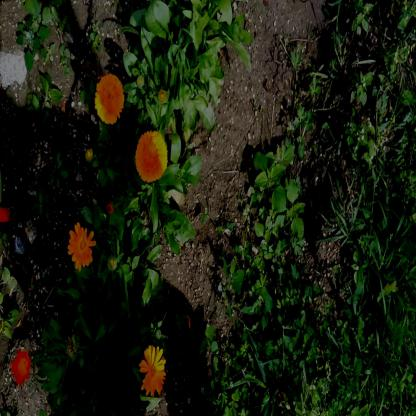marigold: (134, 131, 166, 182), (136, 342, 164, 398), (96, 72, 123, 124), (68, 225, 94, 268), (12, 350, 31, 386)
